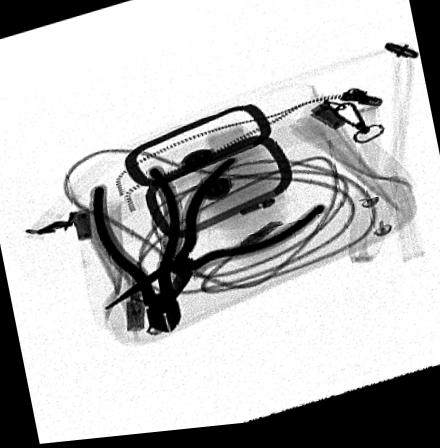Pliers: (100, 162, 331, 334), (89, 165, 186, 339)
